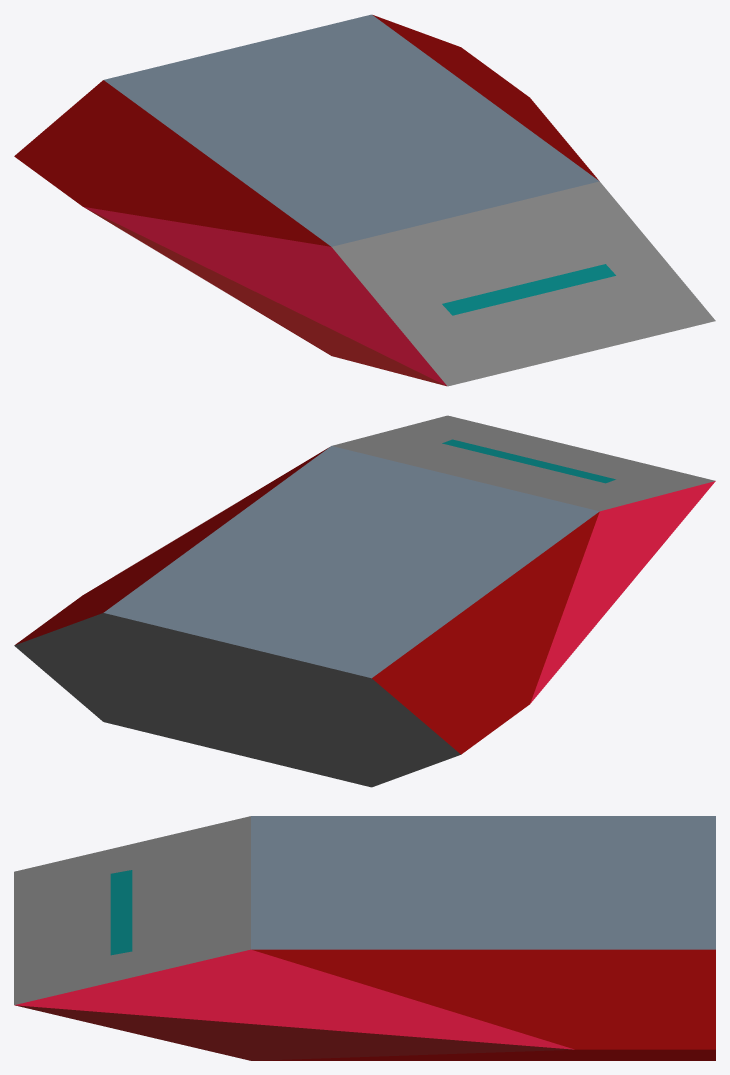
The model's file is adder.obj.
3 renders of one model, top to bottom at view 1: azimuth 30°, elevation 25°; view 2: azimuth 150°, elevation 25°; view 3: azimuth 270°, elevation 25°, orthographic.
Size of the model in its own units: 60 by 14 by 80.
